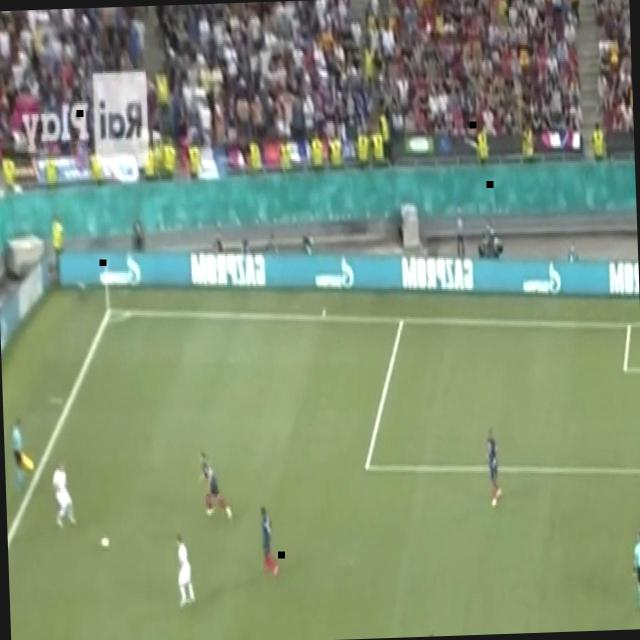ball: (98, 533, 113, 553)
player-white: (196, 441, 234, 525), (50, 451, 80, 532), (482, 417, 506, 515), (172, 530, 200, 610), (7, 410, 30, 506), (258, 497, 283, 583), (630, 524, 640, 618), (636, 512, 640, 610)
